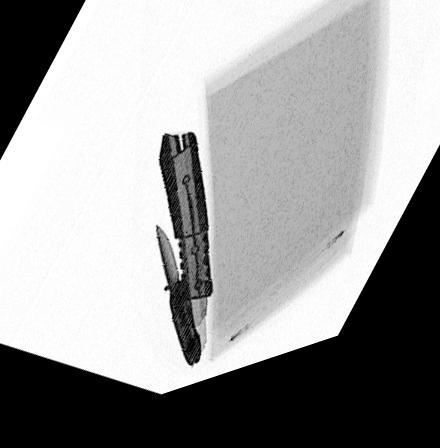Knife: (157, 142, 213, 381), (154, 232, 201, 378)
